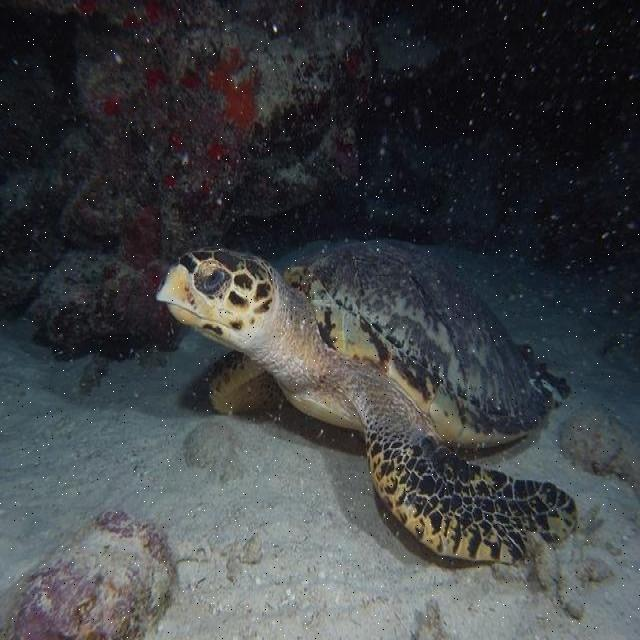fish: (155, 237, 578, 566)
sea-floor: (0, 1, 378, 363), (7, 509, 180, 639)
